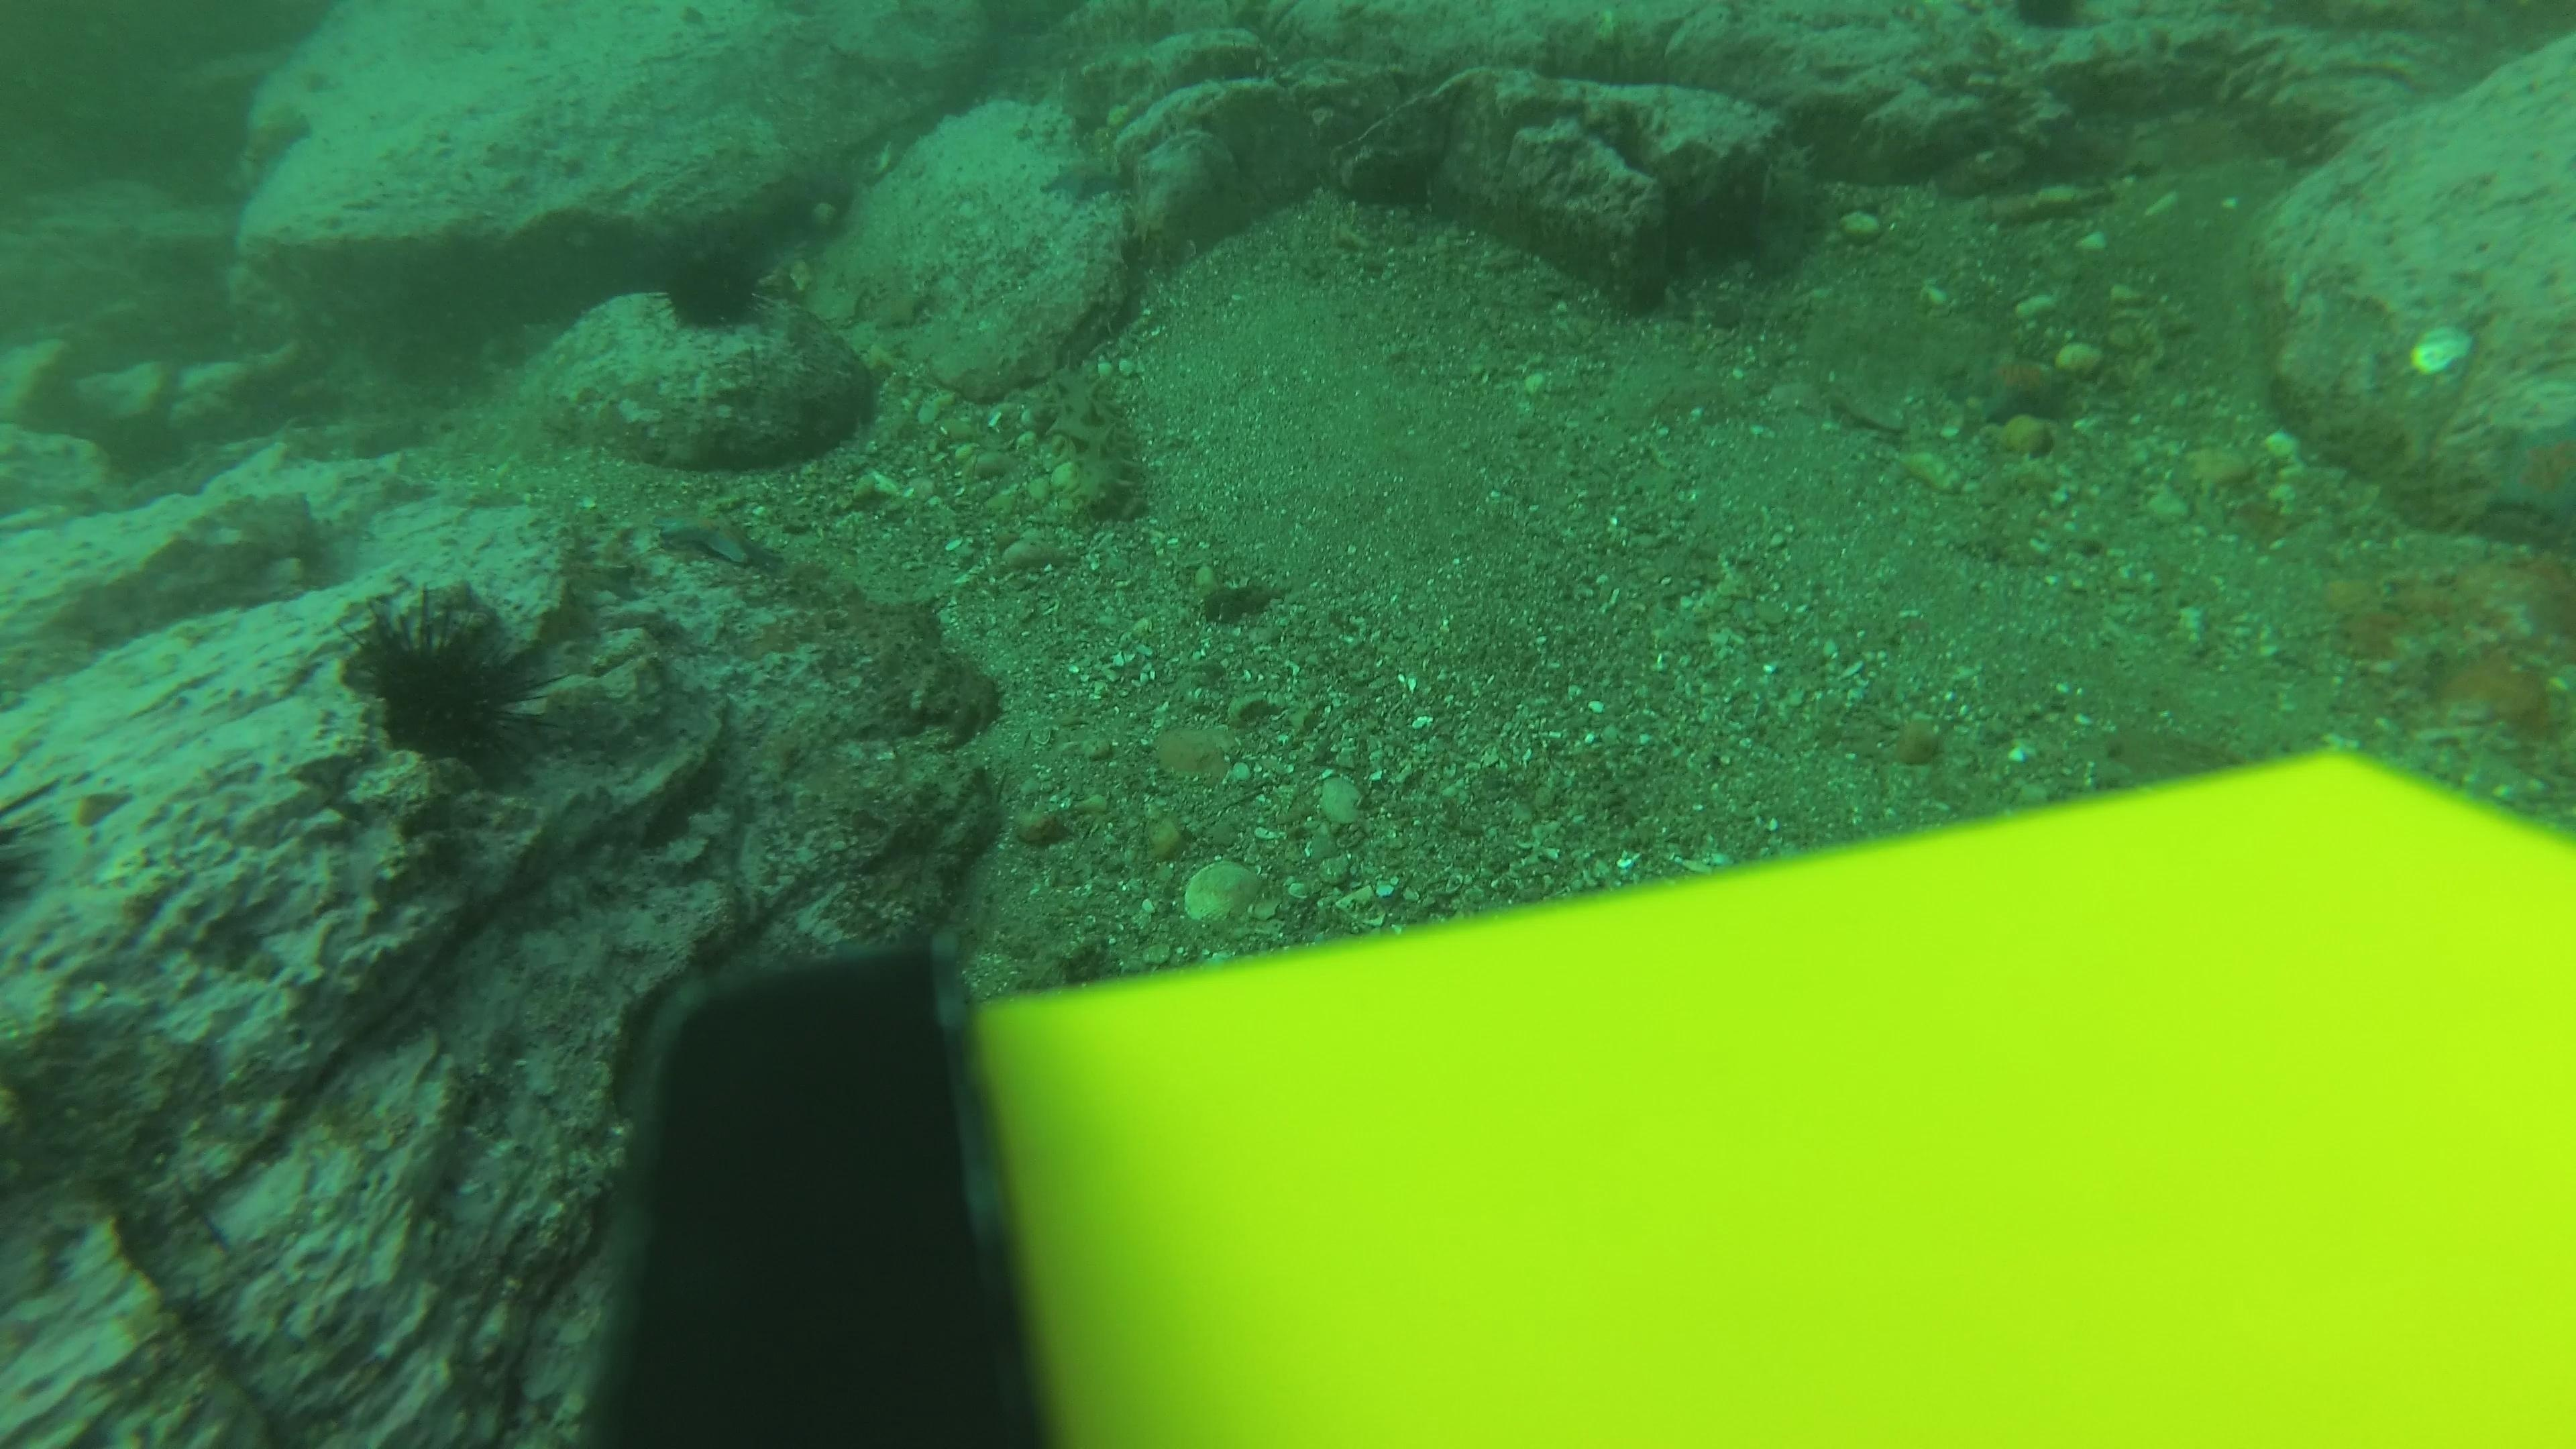echinus: (338, 582, 559, 778), (653, 237, 775, 336)
holothurian: (1037, 354, 1155, 534)
starfish: (2477, 409, 2576, 533), (1960, 345, 2086, 428), (648, 506, 770, 570), (1037, 150, 1131, 209), (239, 101, 318, 165)
